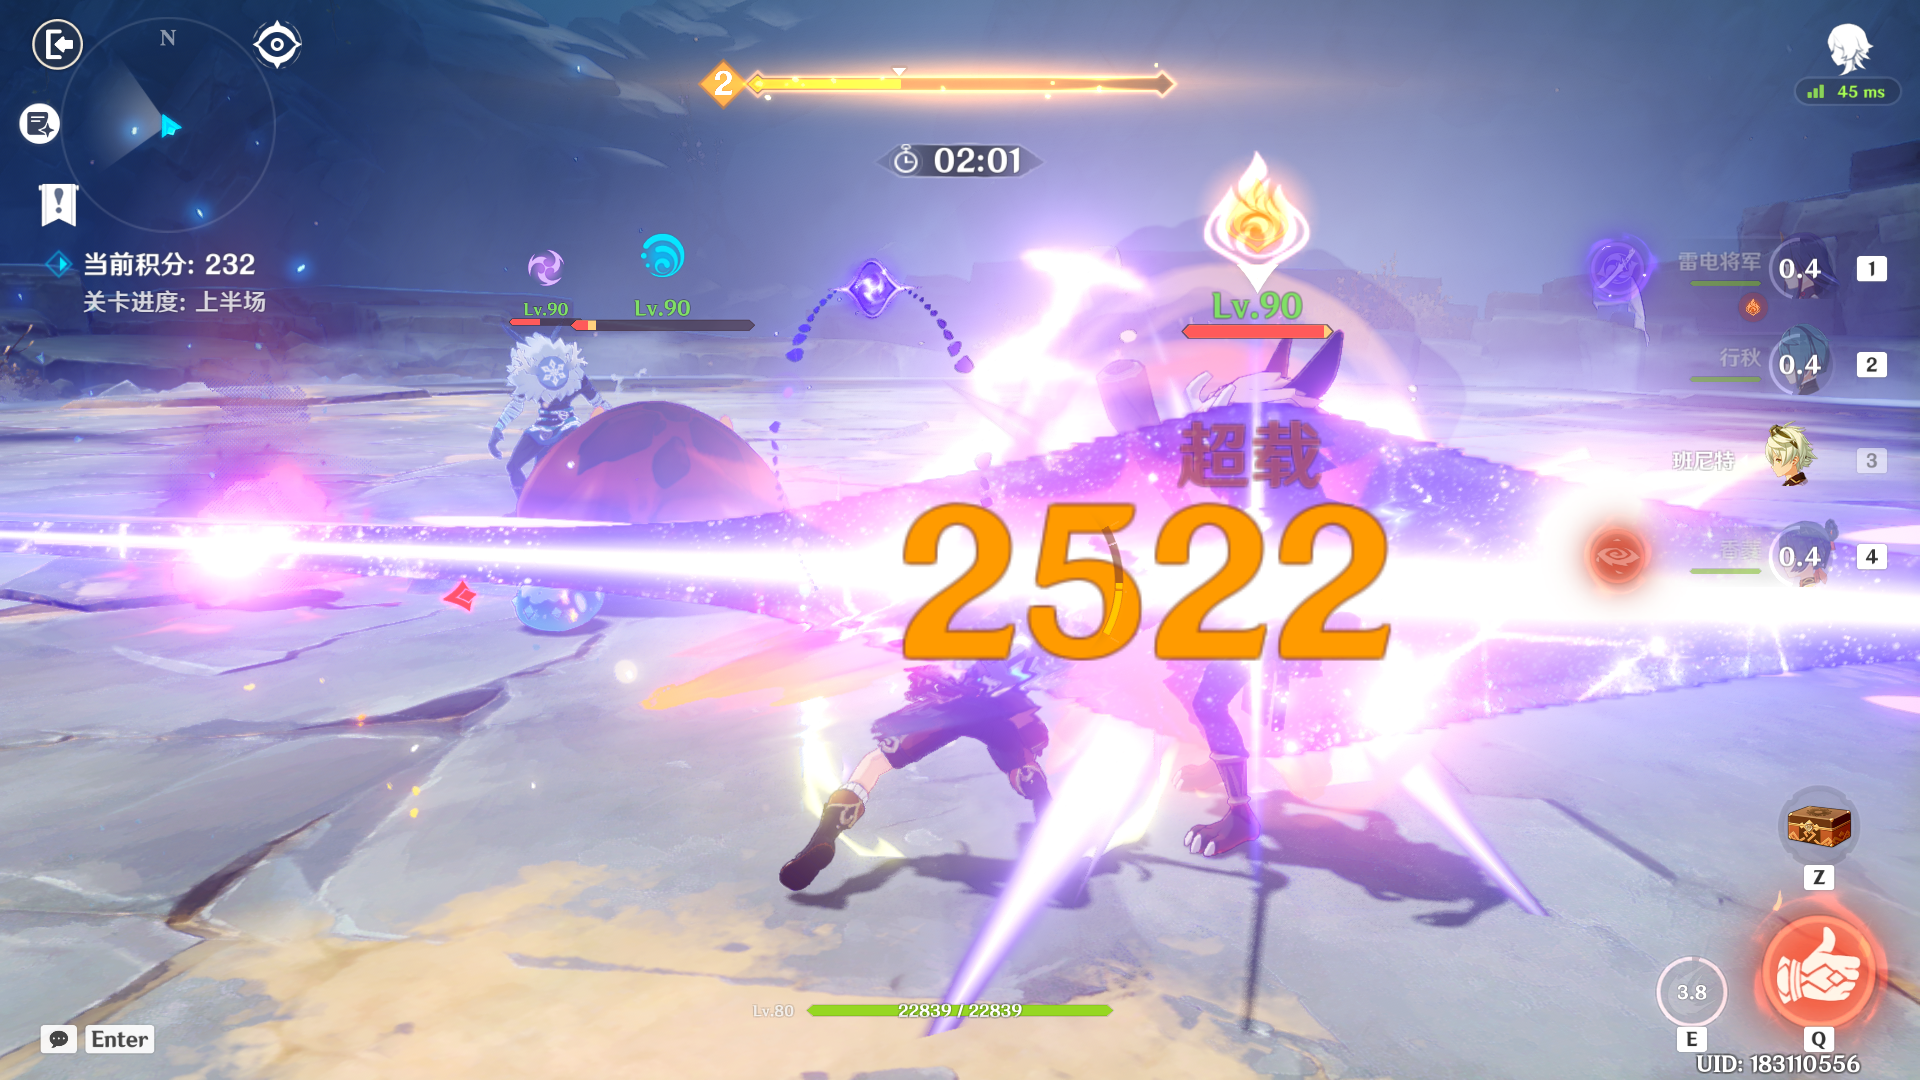hili: (1101, 335, 1414, 938), (476, 323, 618, 509)
slime: (484, 388, 815, 632)
